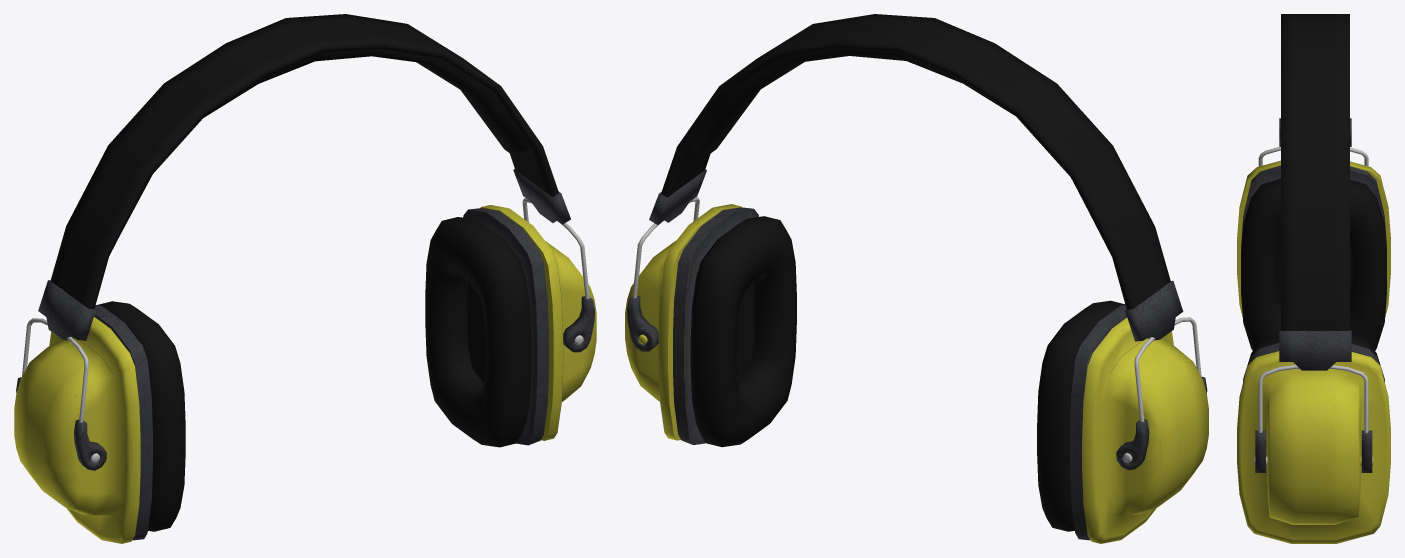
The model's file is earmuffs.fbx.
3 views of the same model, side by side, from view 1: azimuth 30°, elevation 25°; view 2: azimuth 150°, elevation 25°; view 3: azimuth 270°, elevation 25° (orthographic). The views are drawn at different scales.
Parts seen in each view (by area): view 1: earmuffs; view 2: earmuffs; view 3: earmuffs.
Boxes of the visible parts, x1=… form: earmuffs: x1=14, y1=14, x2=596, y2=543; earmuffs: x1=625, y1=14, x2=1208, y2=543; earmuffs: x1=1237, y1=14, x2=1390, y2=543.
Bounding box in the file's own units: 30.36 × 24.1 × 8.13.
2 materials, 2 textured.
